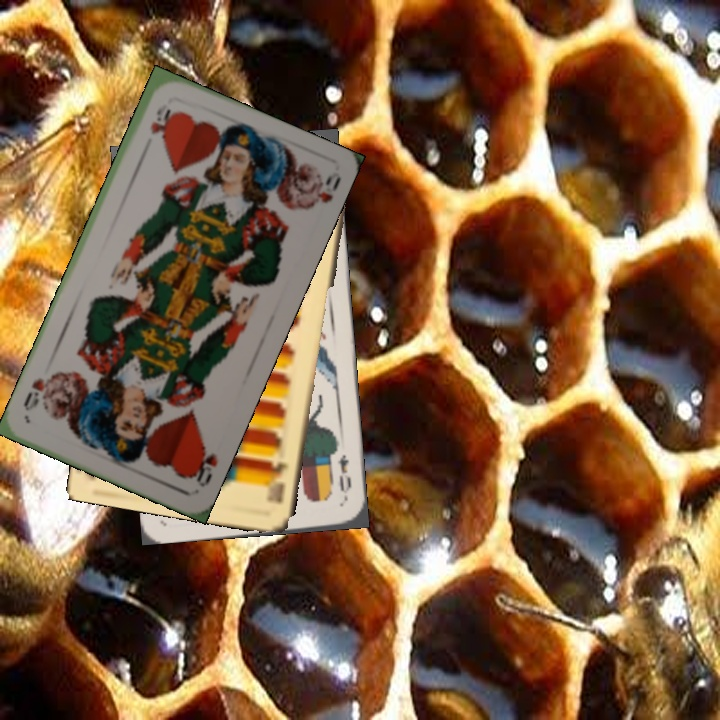E10: (261, 458, 291, 506)
EO: (334, 450, 354, 503)
HO: (186, 442, 221, 490), (146, 100, 173, 137)
